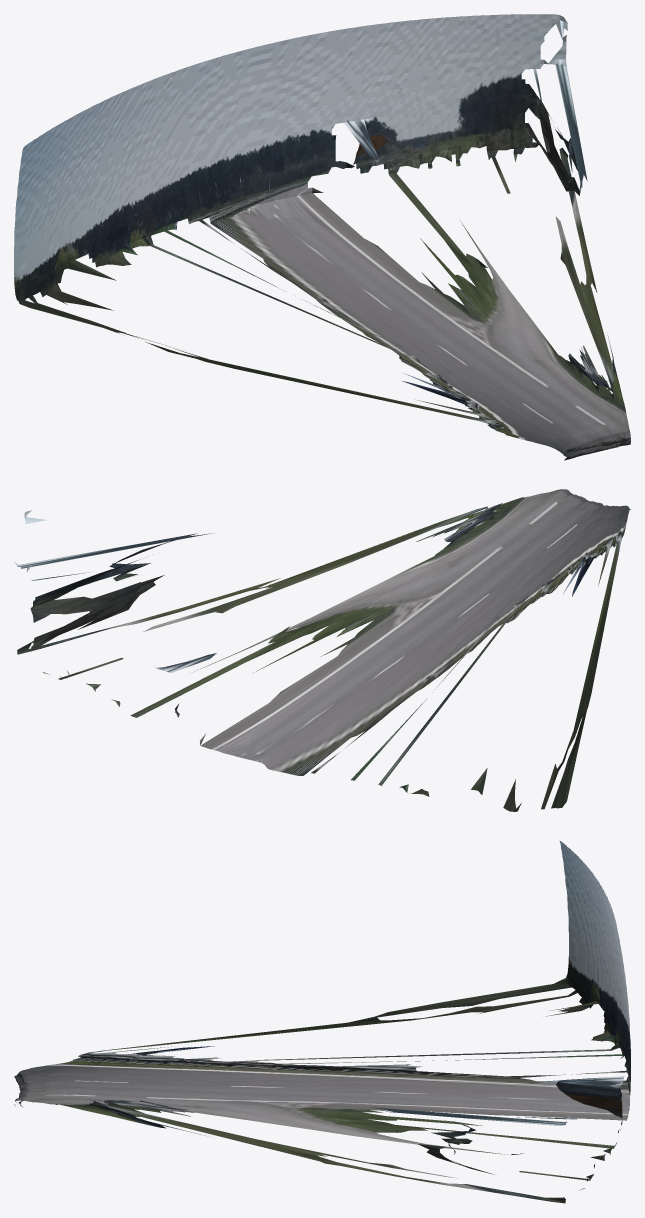
3 renders of one model, top to bottom at view 1: azimuth 30°, elevation 25°; view 2: azimuth 150°, elevation 25°; view 3: azimuth 270°, elevation 25°, orthographic. The views are drawn at different scales.
Visible parts, largest first — view 1: defaultobject; view 2: defaultobject; view 3: defaultobject.
Part boxes in pixels (x1=…): defaultobject: x1=14, y1=14, x2=630, y2=460; defaultobject: x1=14, y1=489, x2=630, y2=811; defaultobject: x1=14, y1=841, x2=630, y2=1203.
Bounding box in the file's own units: 41.05 × 12.89 × 44.43.
Materials: 1 (1 with a texture image).
